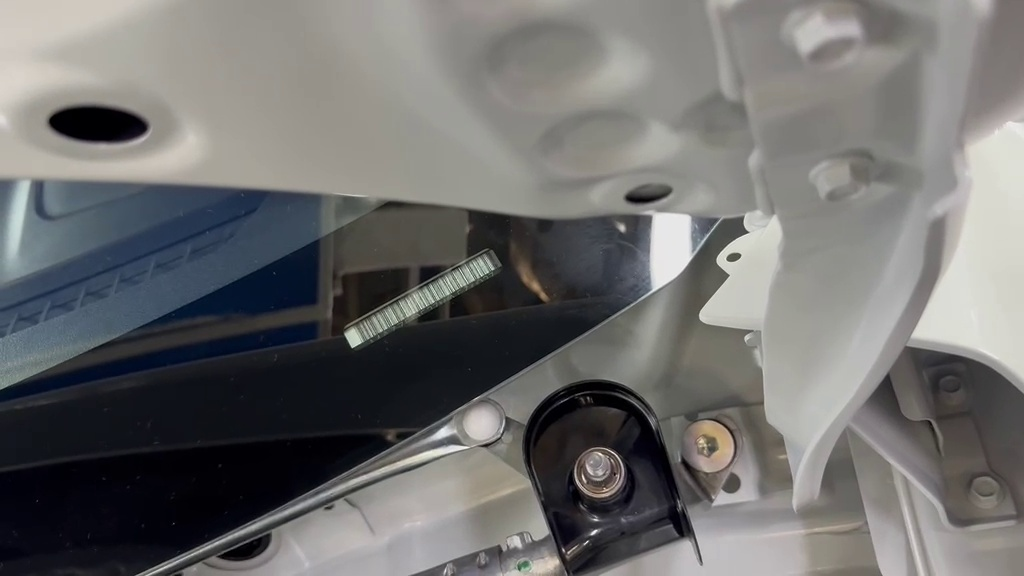barcode: (481, 365, 735, 576)
hinge: (317, 229, 521, 365)
